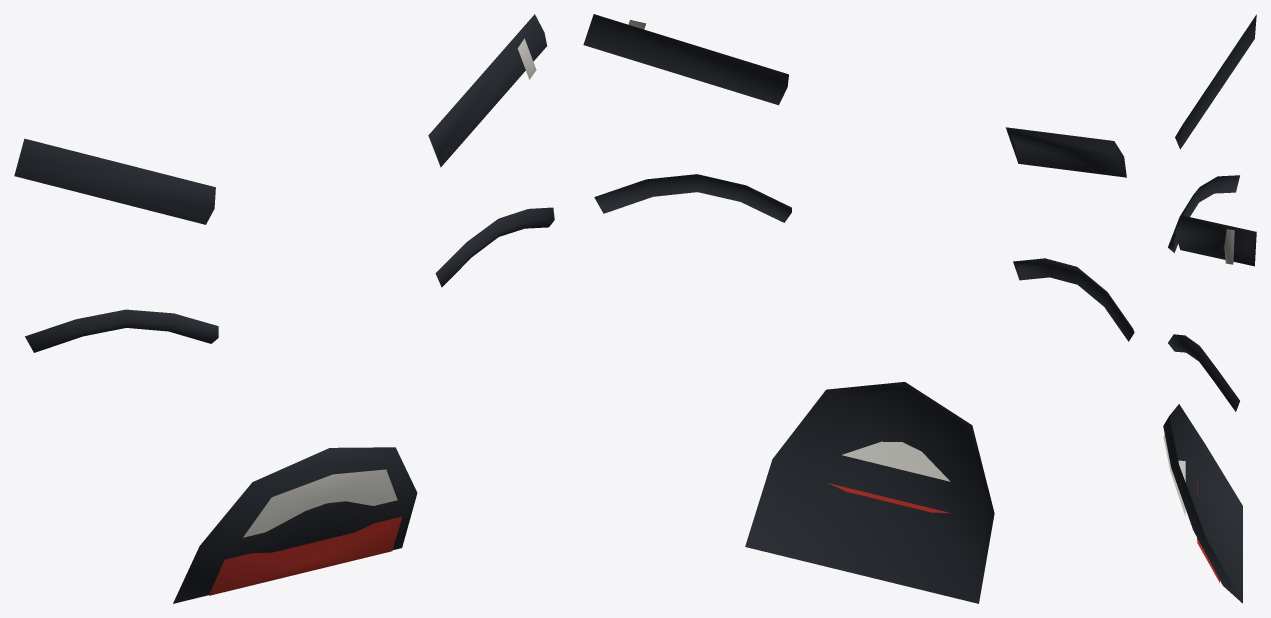
Rendered from face_shout_01.glb.
The picture shows the model from 3 angles, left to right: view 1: azimuth 30°, elevation 25°; view 2: azimuth 150°, elevation 25°; view 3: azimuth 270°, elevation 25°; orthographic projection. The views are drawn at different scales.
Parts seen in each view (by area): view 1: Relief shout; view 2: Relief shout; view 3: Relief shout.
Part boxes in pixels (x1=…): Relief shout: x1=14, y1=14, x2=554, y2=603; Relief shout: x1=583, y1=14, x2=1134, y2=603; Relief shout: x1=1163, y1=14, x2=1256, y2=603.
Bounding box in the file's own units: 0.1859 × 0.1647 × 0.0323.
